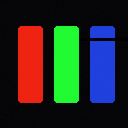3 line_h: (79, 38, 127, 40)
